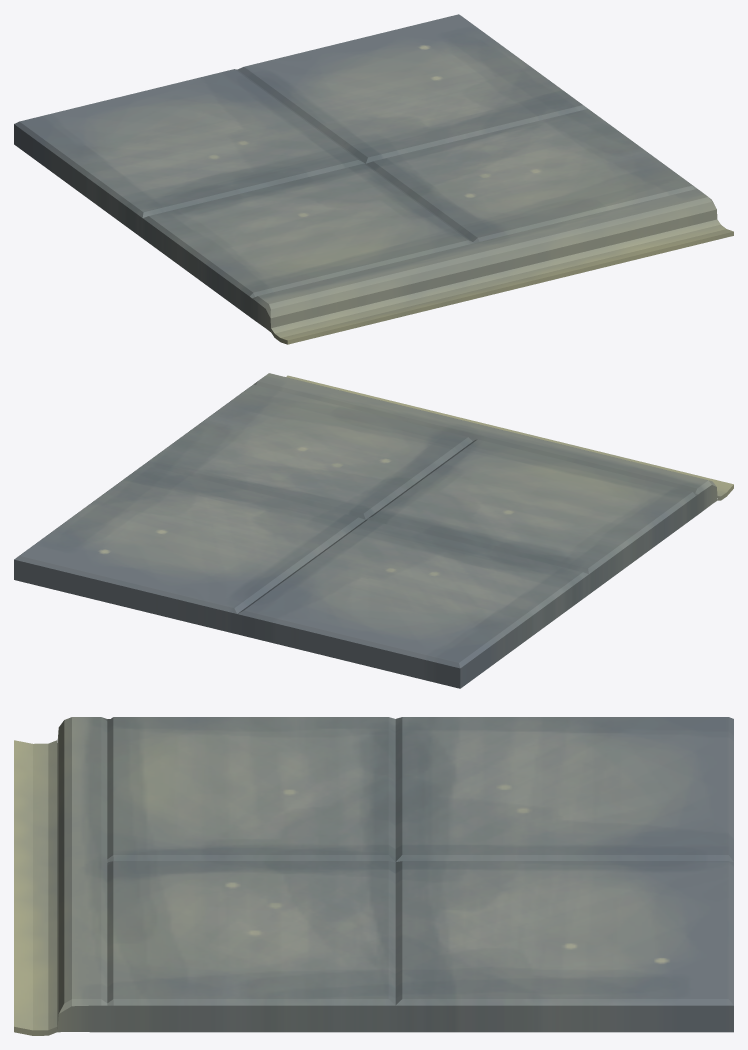
File: Sidewalk_CurbSmall.gltf
The picture shows the model from 3 angles, top to bottom: view 1: azimuth 30°, elevation 25°; view 2: azimuth 150°, elevation 25°; view 3: azimuth 270°, elevation 25°; orthographic projection. The views are drawn at different scales.
Visible parts, largest first — view 1: SideWalkCurb_Small; view 2: SideWalkCurb_Small; view 3: SideWalkCurb_Small.
Part boxes in pixels (x1,y1,x2,y2): SideWalkCurb_Small: [14, 14, 733, 344]; SideWalkCurb_Small: [14, 373, 733, 688]; SideWalkCurb_Small: [14, 717, 733, 1035].
Bounding box in the file's own units: 2.66 × 0.1497 × 2.82.
Materials: 1 (1 with a texture image).
